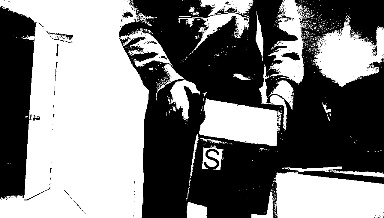S: (203, 147, 222, 169)
